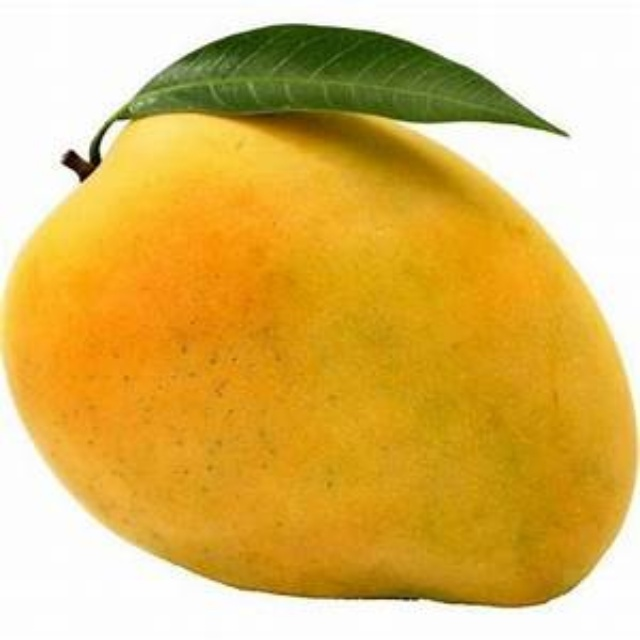mango: (4, 107, 638, 606)
